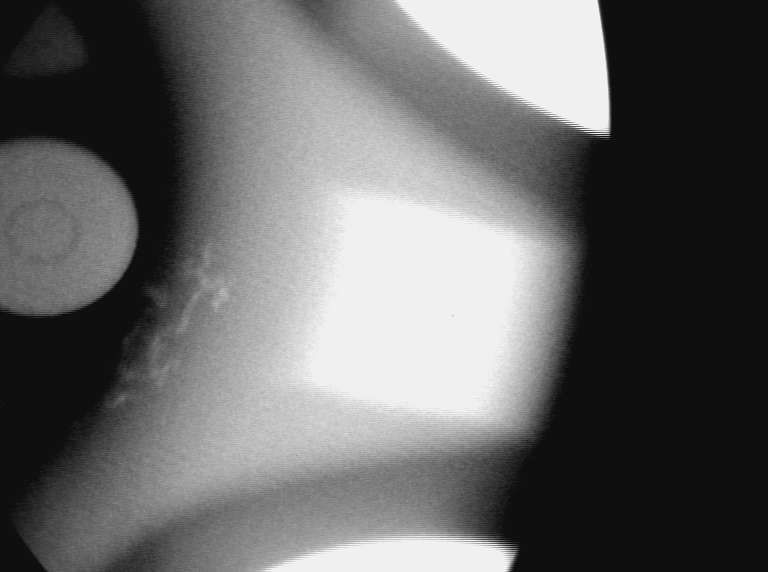defect: (93, 239, 240, 417)
